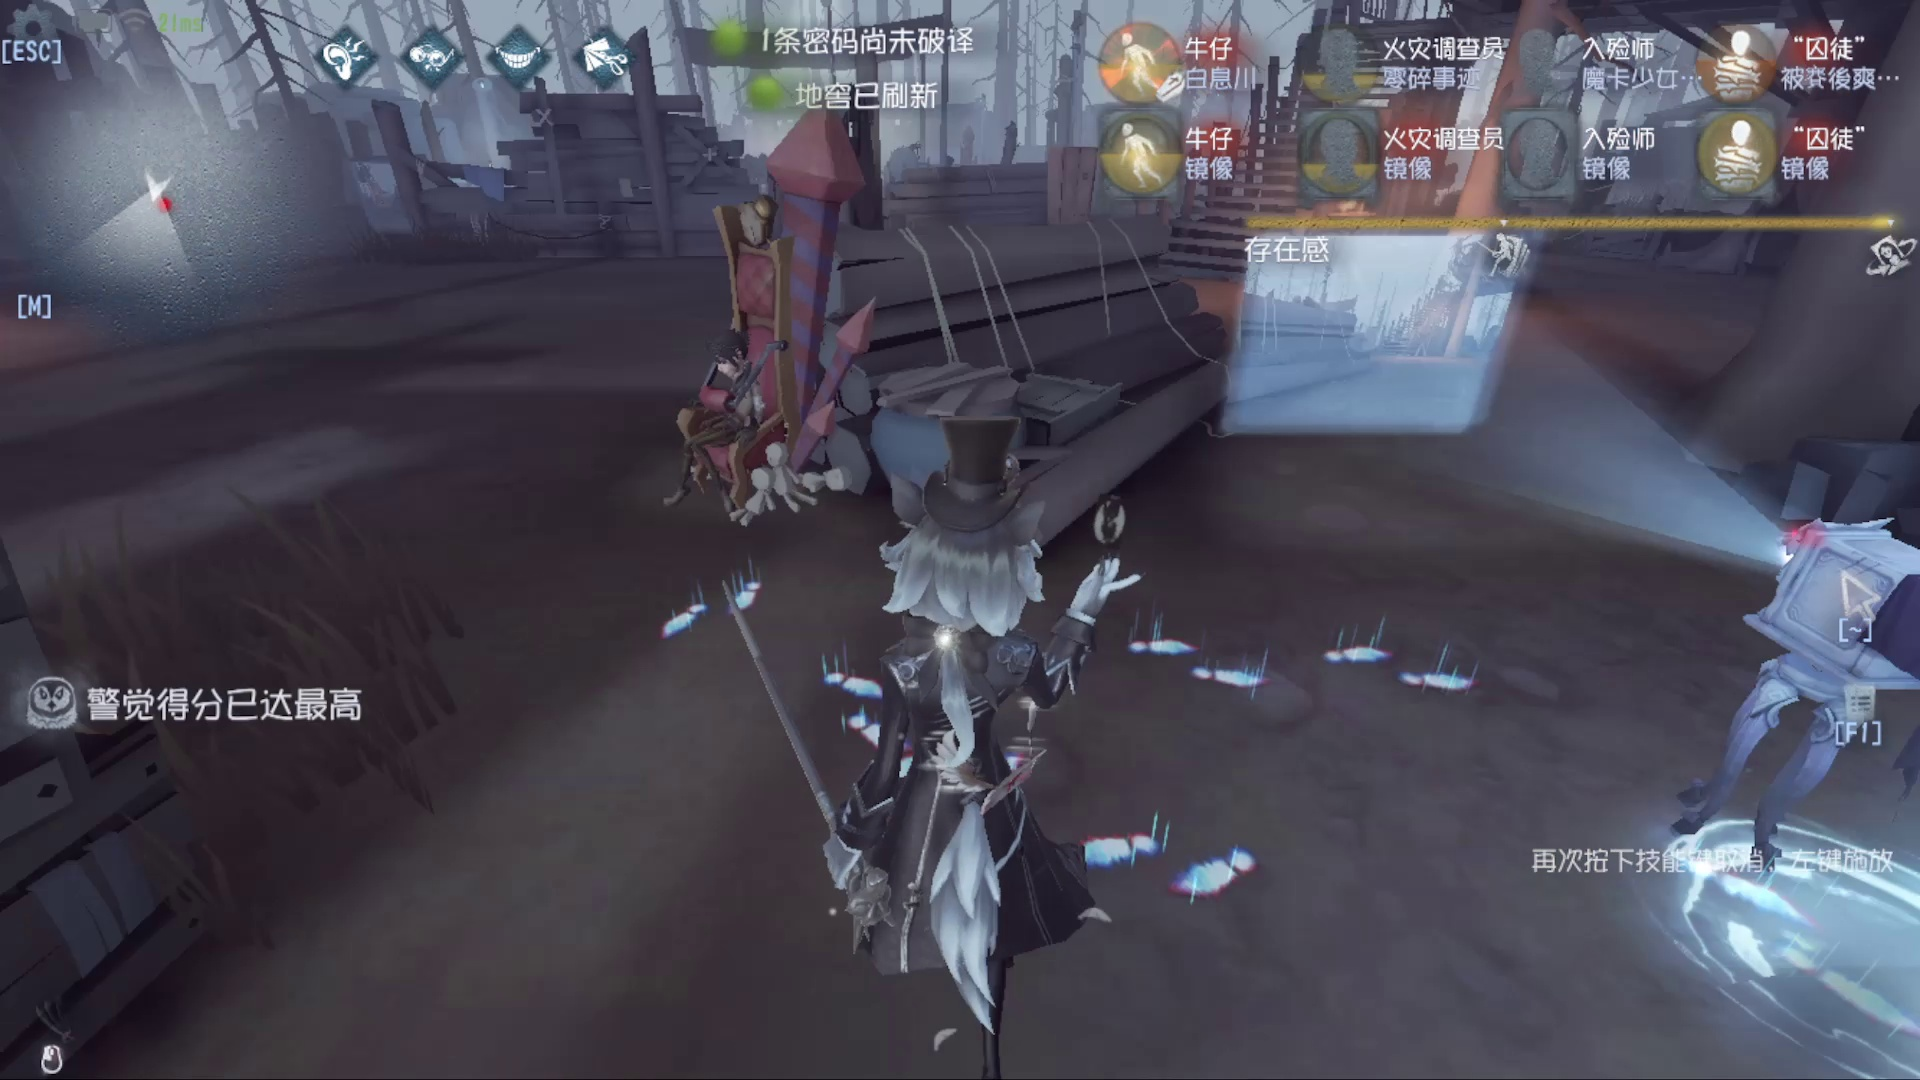求生者: (696, 345, 762, 463)
狂欢之椅: (645, 109, 882, 527)
